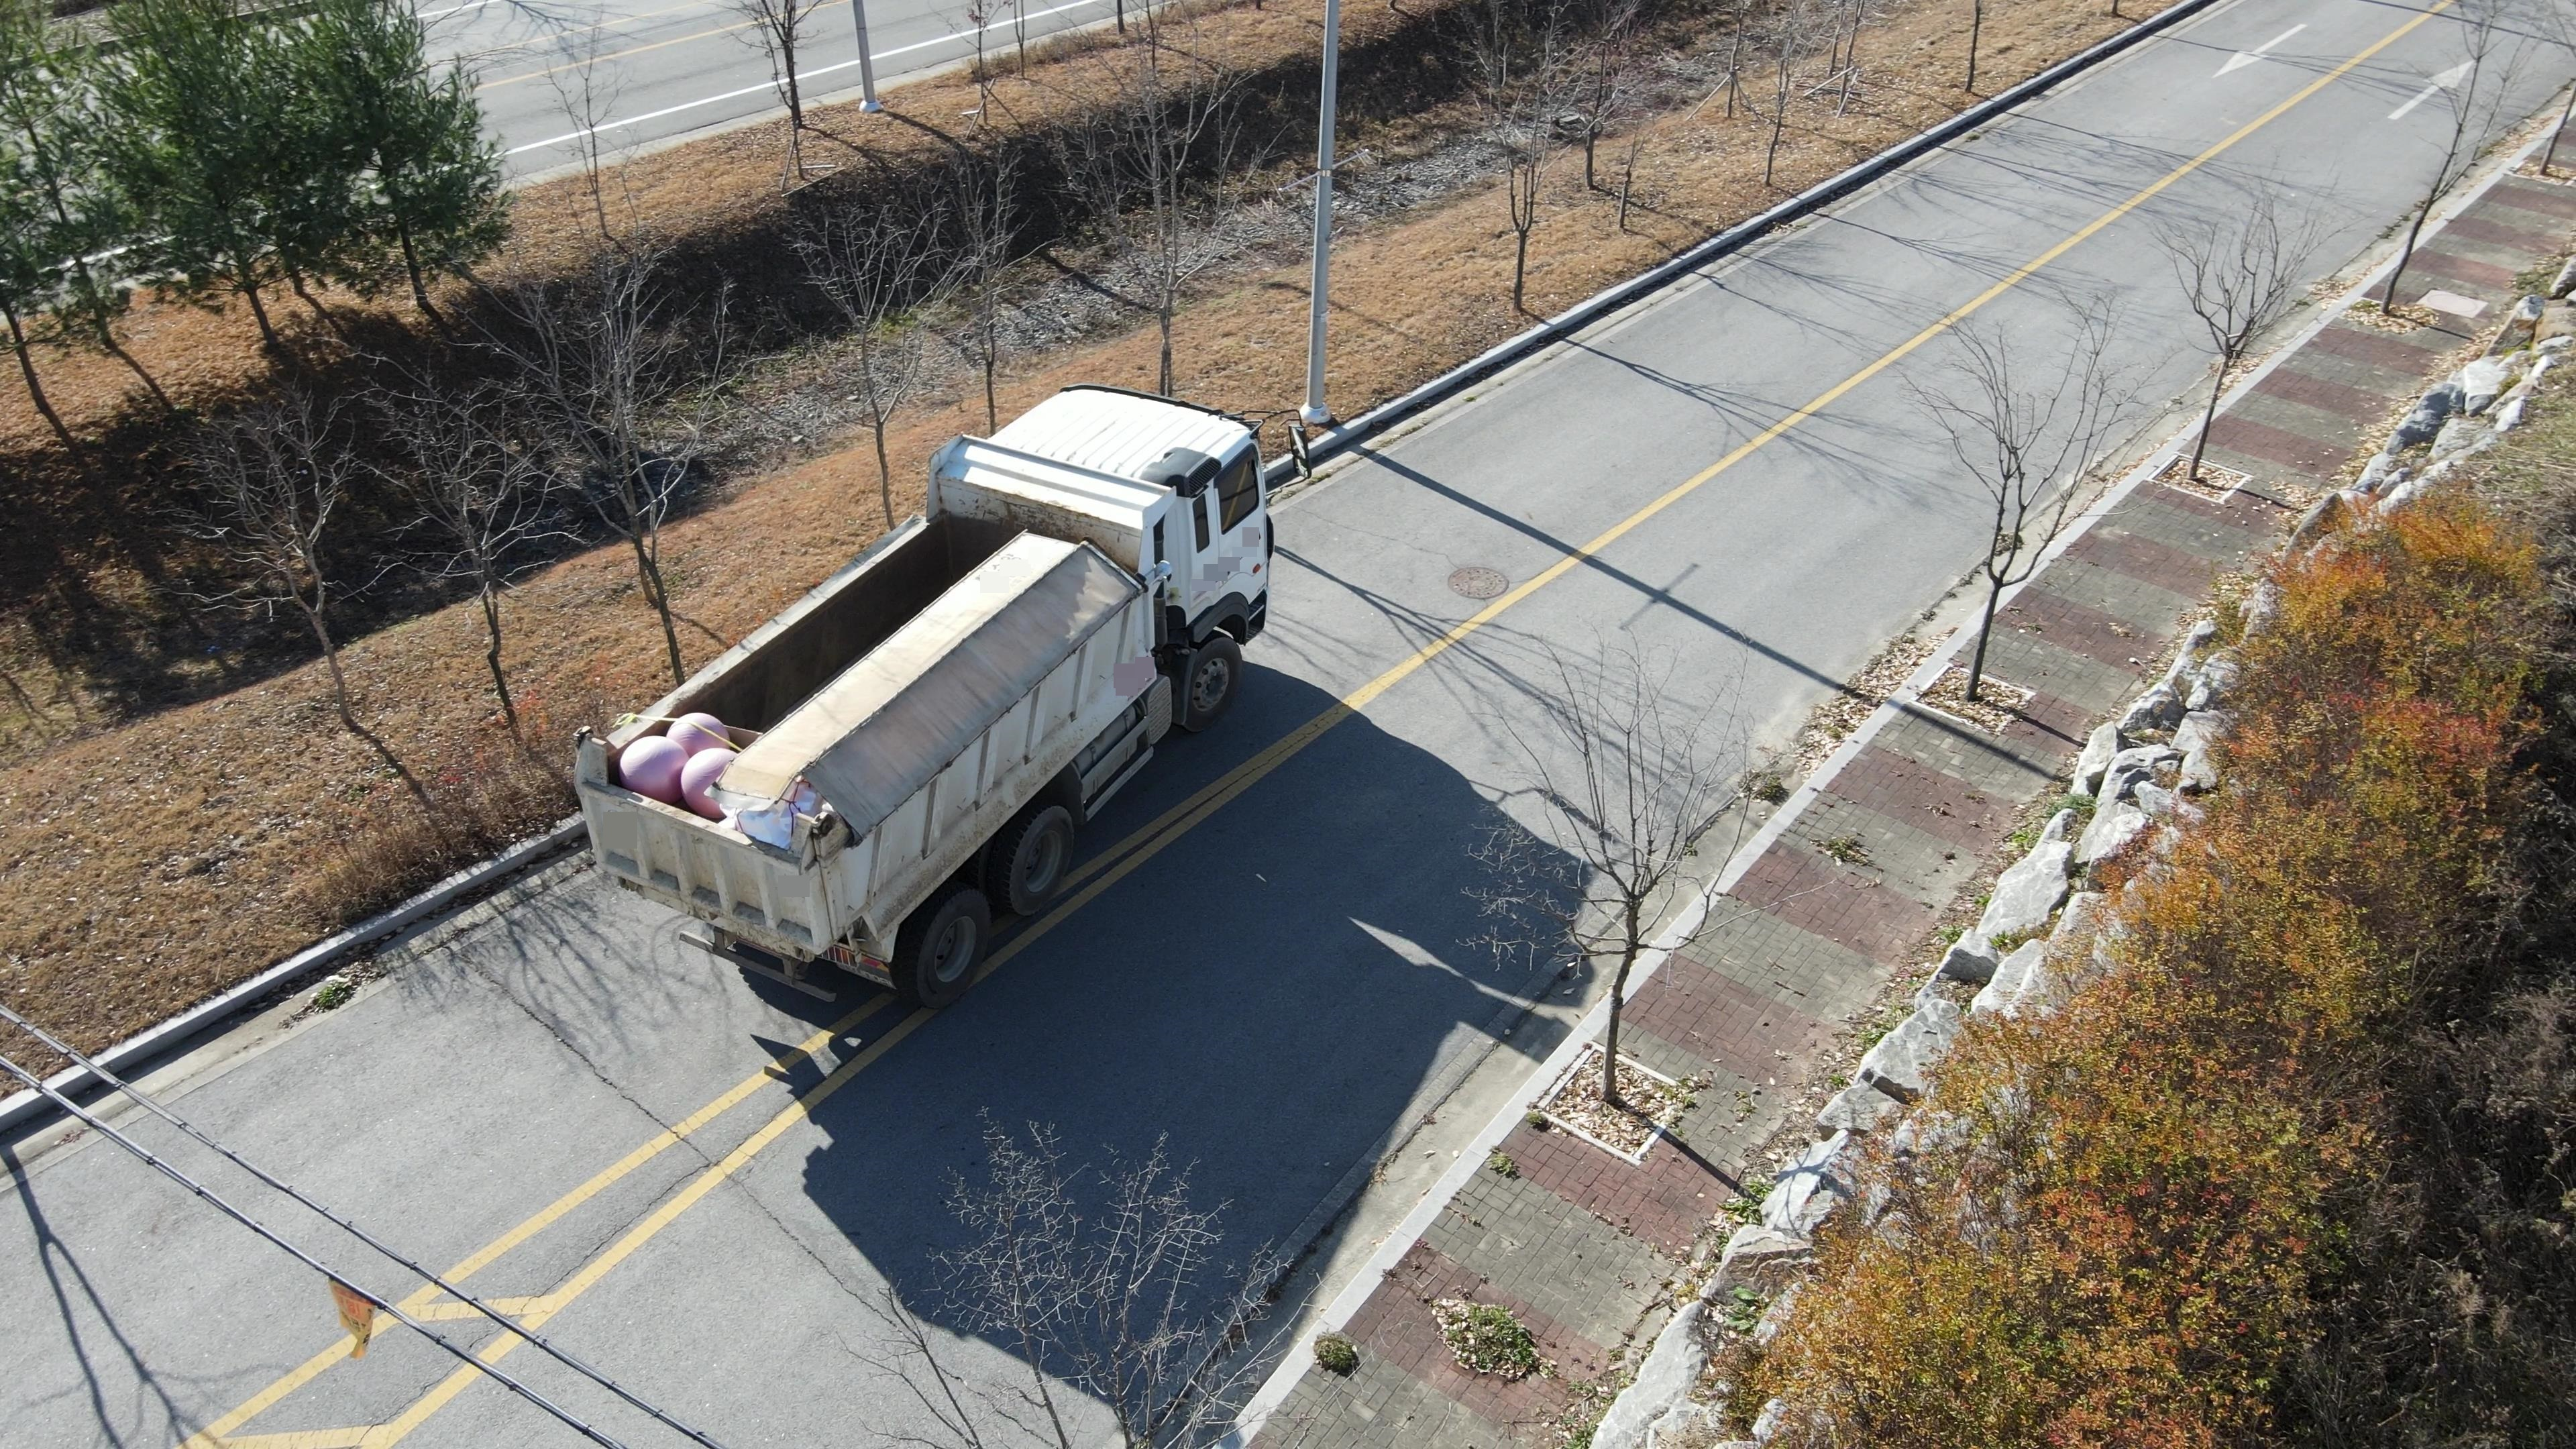불법차량: (570, 386, 1313, 1010)
